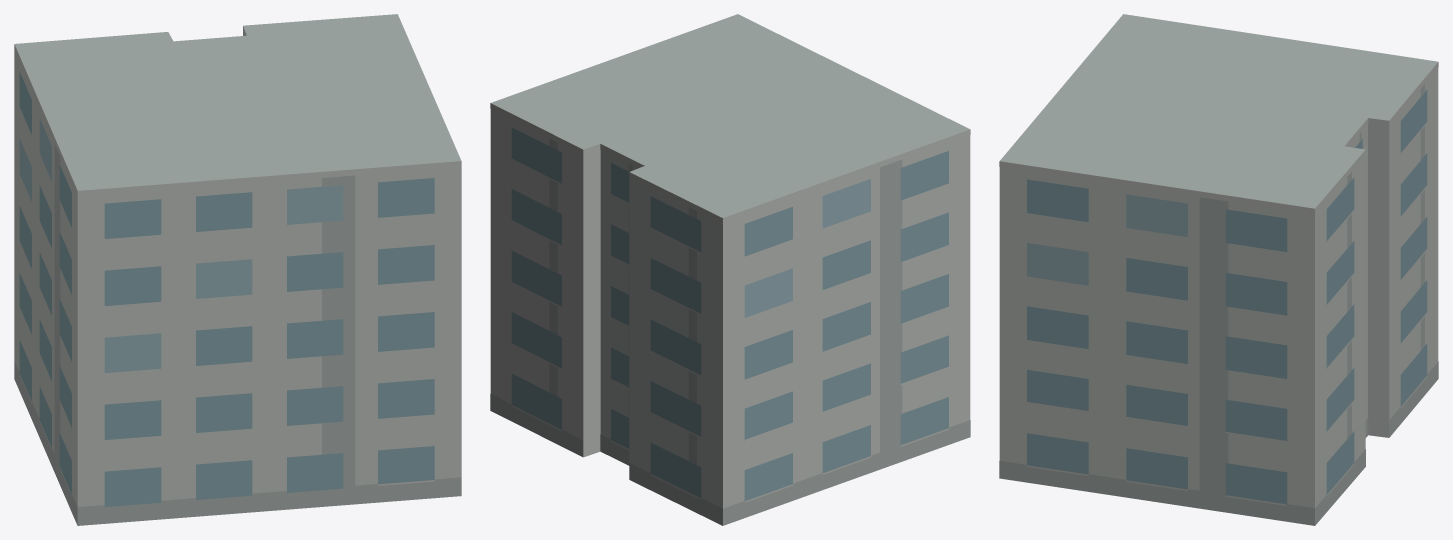
The model's file is survey-upis-32886794.glb.
The picture shows the model from 3 angles, left to right: view 1: azimuth 30°, elevation 25°; view 2: azimuth 150°, elevation 25°; view 3: azimuth 270°, elevation 25°; orthographic projection. The views are drawn at different scales.
Visible parts, largest first — view 1: survey-upis-32886794.tmp; view 2: survey-upis-32886794.tmp; view 3: survey-upis-32886794.tmp.
Boxes of the visible parts, x1,y1,x2,y2 form: survey-upis-32886794.tmp: (14, 14, 461, 525); survey-upis-32886794.tmp: (490, 14, 970, 525); survey-upis-32886794.tmp: (999, 14, 1438, 525).
Size of the model in its own units: 17.25 by 13.1 by 16.44.
